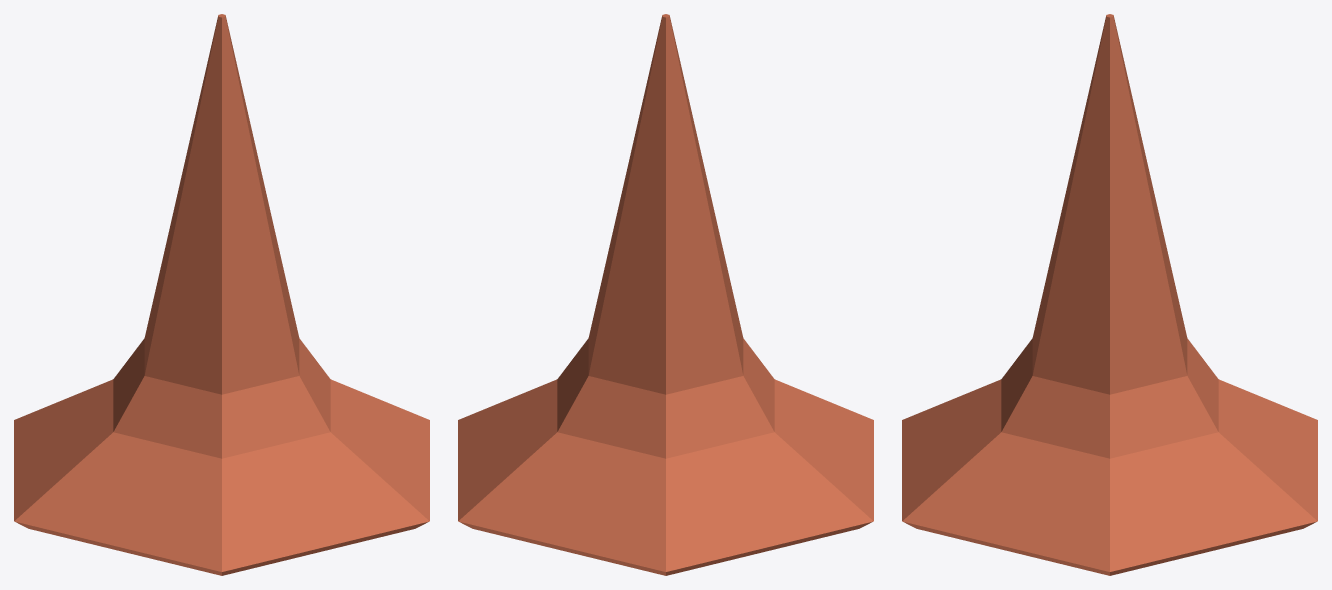
File: Tower20.fbx
3 renders of one model, left to right at view 1: azimuth 30°, elevation 25°; view 2: azimuth 150°, elevation 25°; view 3: azimuth 270°, elevation 25°, orthographic.
Parts seen in each view (by area): view 1: Group1; view 2: Group1; view 3: Group1.
Part boxes in pixels (x1=…): Group1: x1=14, y1=14, x2=429, y2=575; Group1: x1=458, y1=14, x2=873, y2=575; Group1: x1=902, y1=14, x2=1317, y2=575.
Size of the model in its own units: 4016 by 4300 by 3478.
